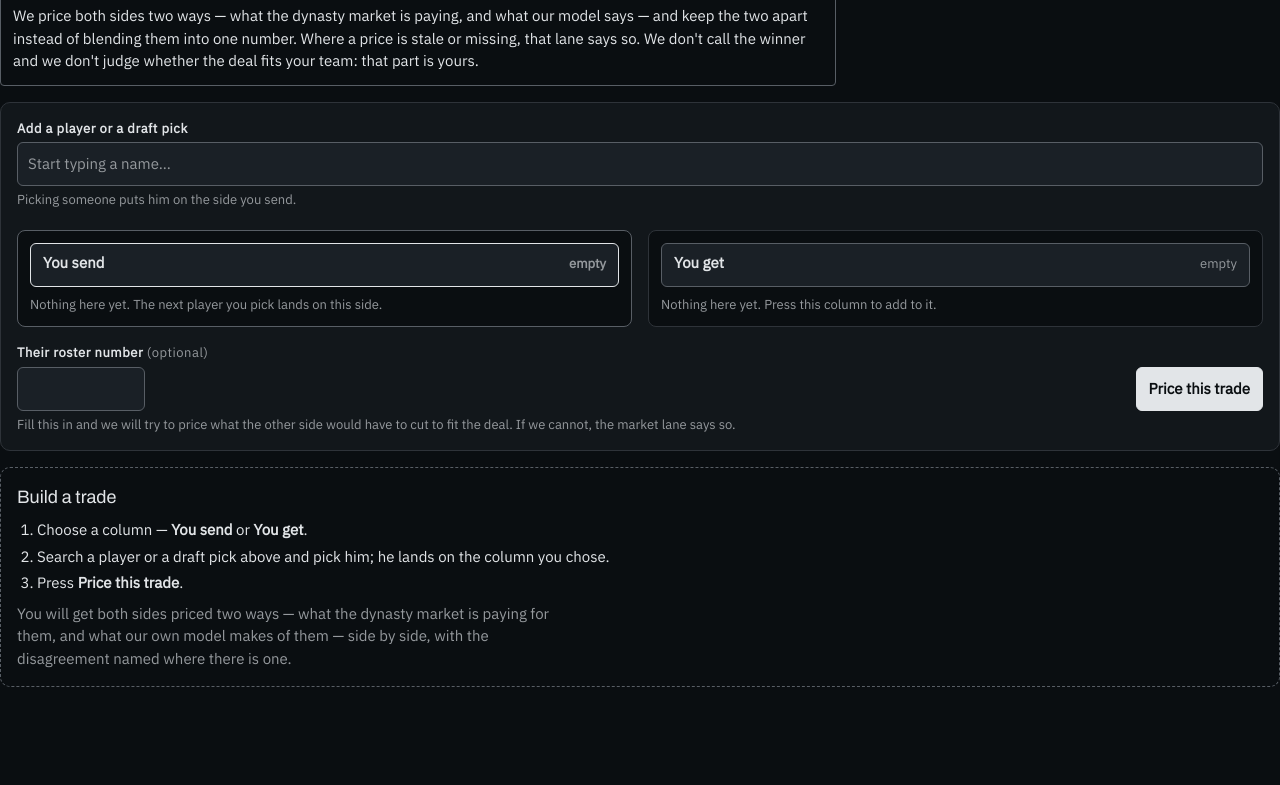
Test case: TradeLab two-lane response wiring › validates run responses and renders both lane panels without a blended number
Step 1. Type "cha" into the search field → [640, 164], box [17,142,1263,186]
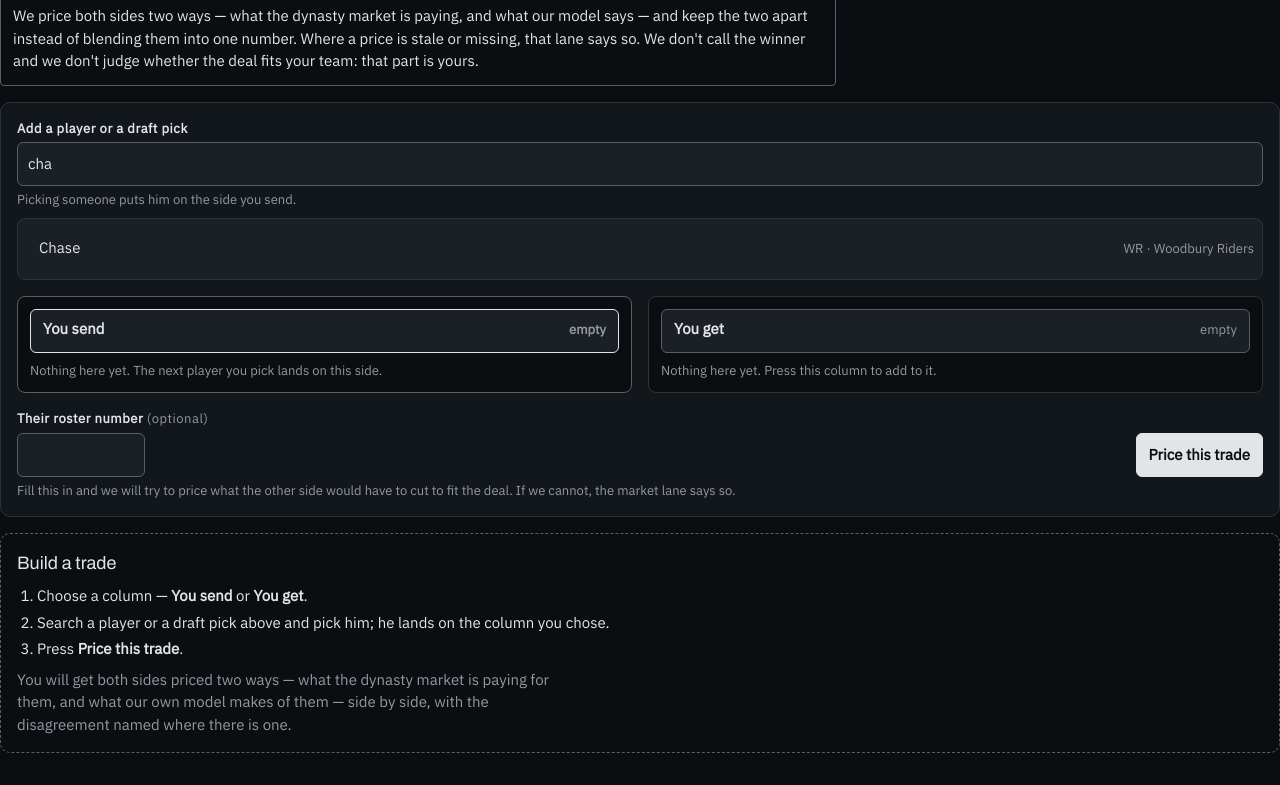
Step 2. Click the button "Chase" → [60, 248], box [26,226,1116,270]
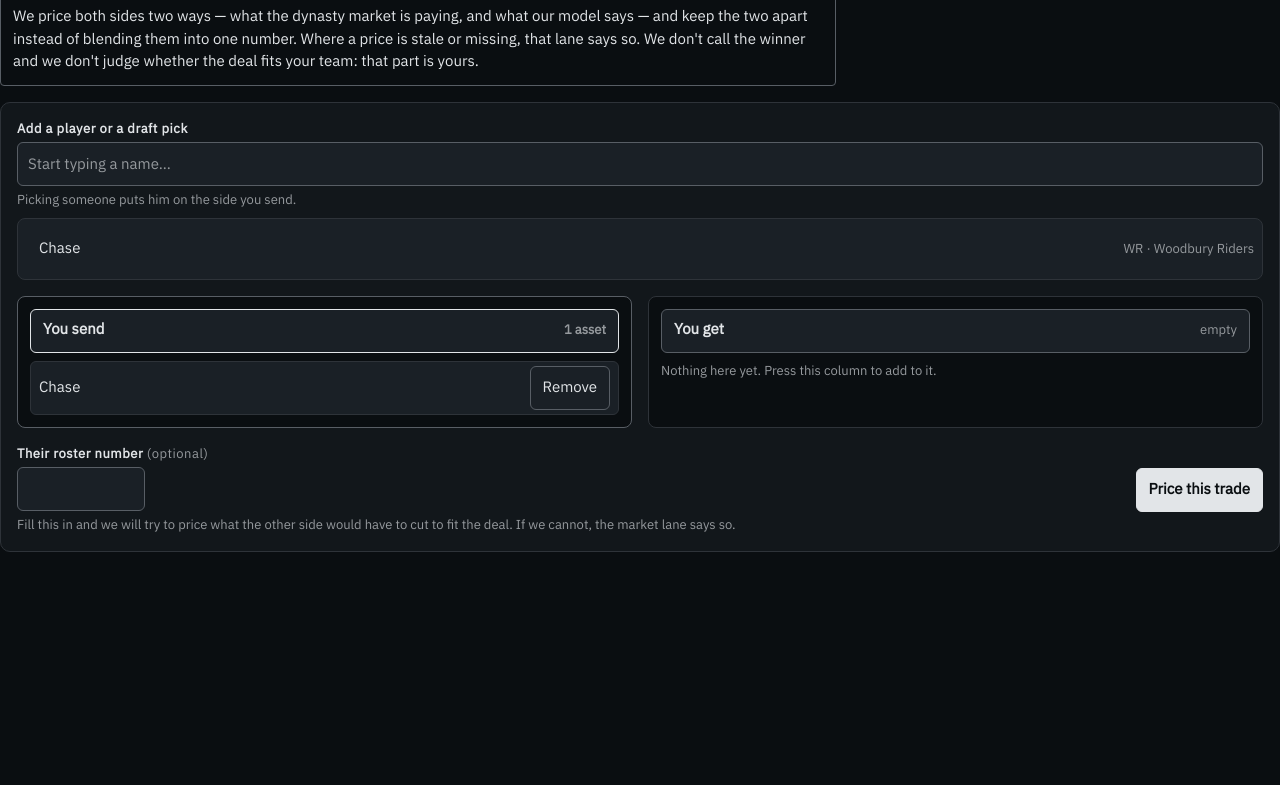
Step 3. Click the button "Price this trade" → [1199, 490], box [1136,468,1263,512]
(page scrolled)
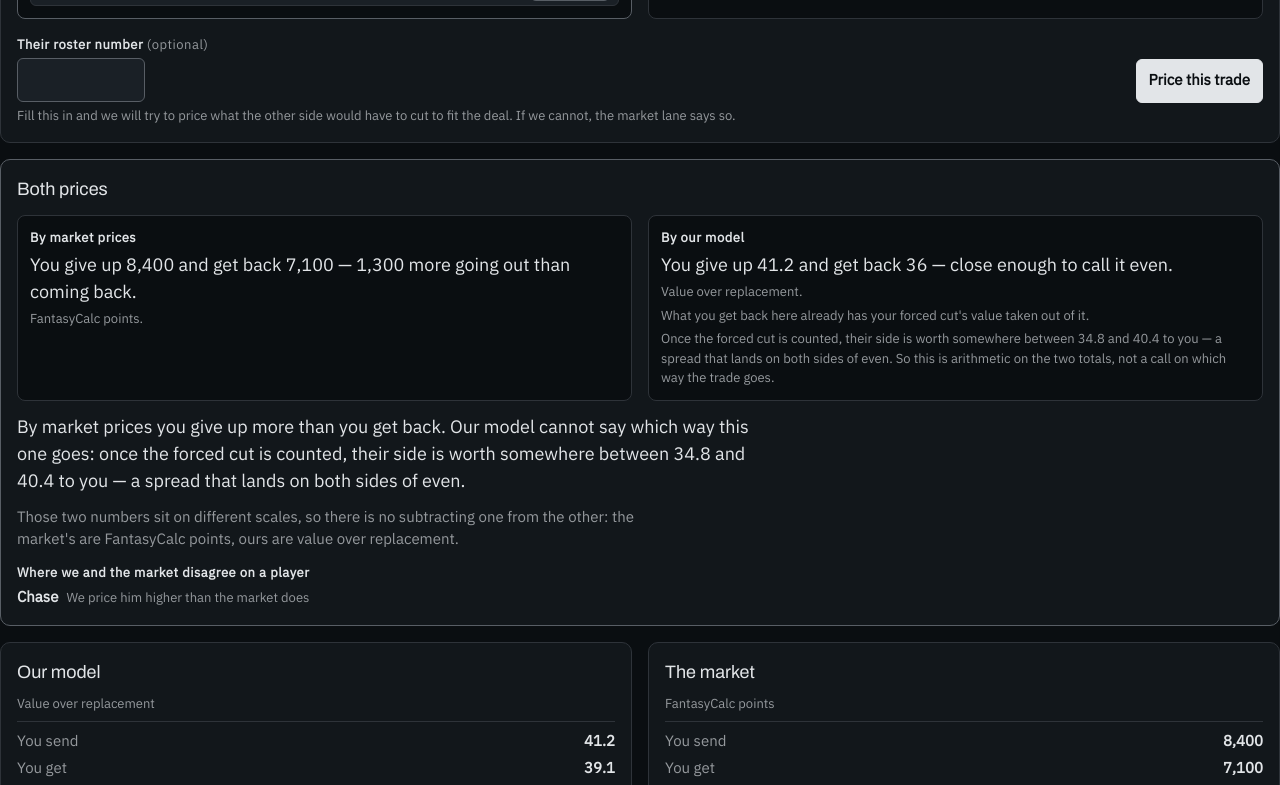
Now the text "41.2" is shown, box [584,731,615,750]
Now the element with test id "trade-verdict" is shown, box [0,158,1279,626]
